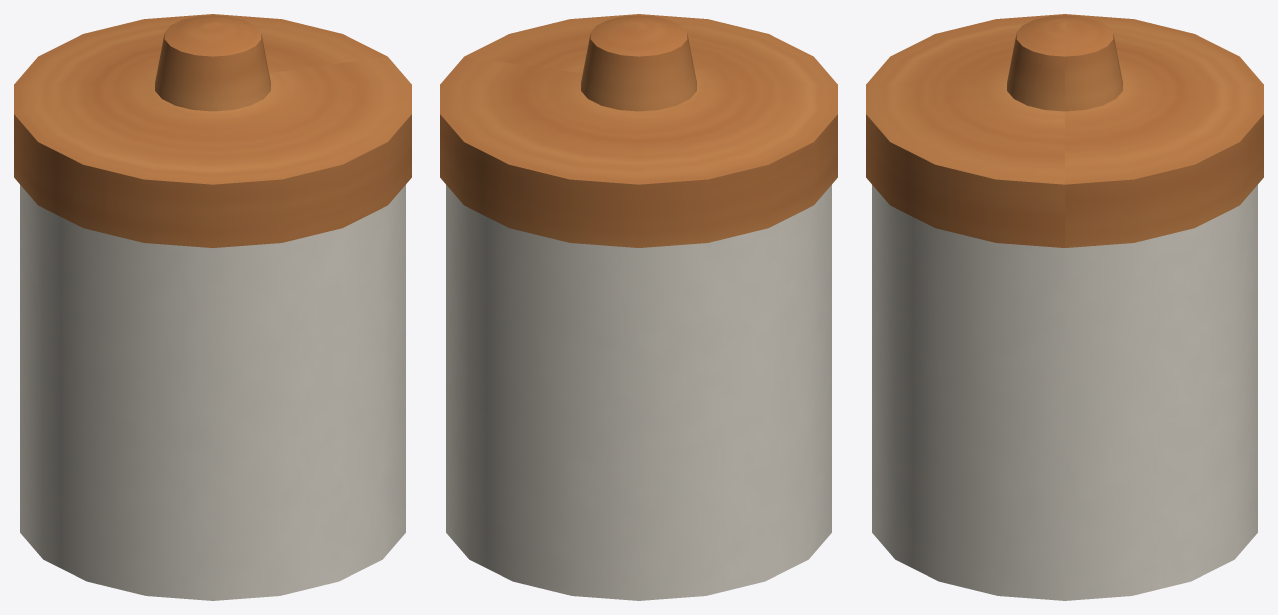
The model's file is SM_Canister_M.fbx.
3 views of the same model, side by side, from view 1: azimuth 30°, elevation 25°; view 2: azimuth 150°, elevation 25°; view 3: azimuth 270°, elevation 25° (orthographic).
Visible parts, largest first — view 1: SM_Canister_M; view 2: SM_Canister_M; view 3: SM_Canister_M.
Boxes of the visible parts, x1,y1,x2,y2 form: SM_Canister_M: [14, 14, 411, 600]; SM_Canister_M: [440, 14, 837, 600]; SM_Canister_M: [866, 14, 1263, 600].
Size of the model in its own units: 0.1442 by 0.195 by 0.142.
Materials: 2 (2 with a texture image).
